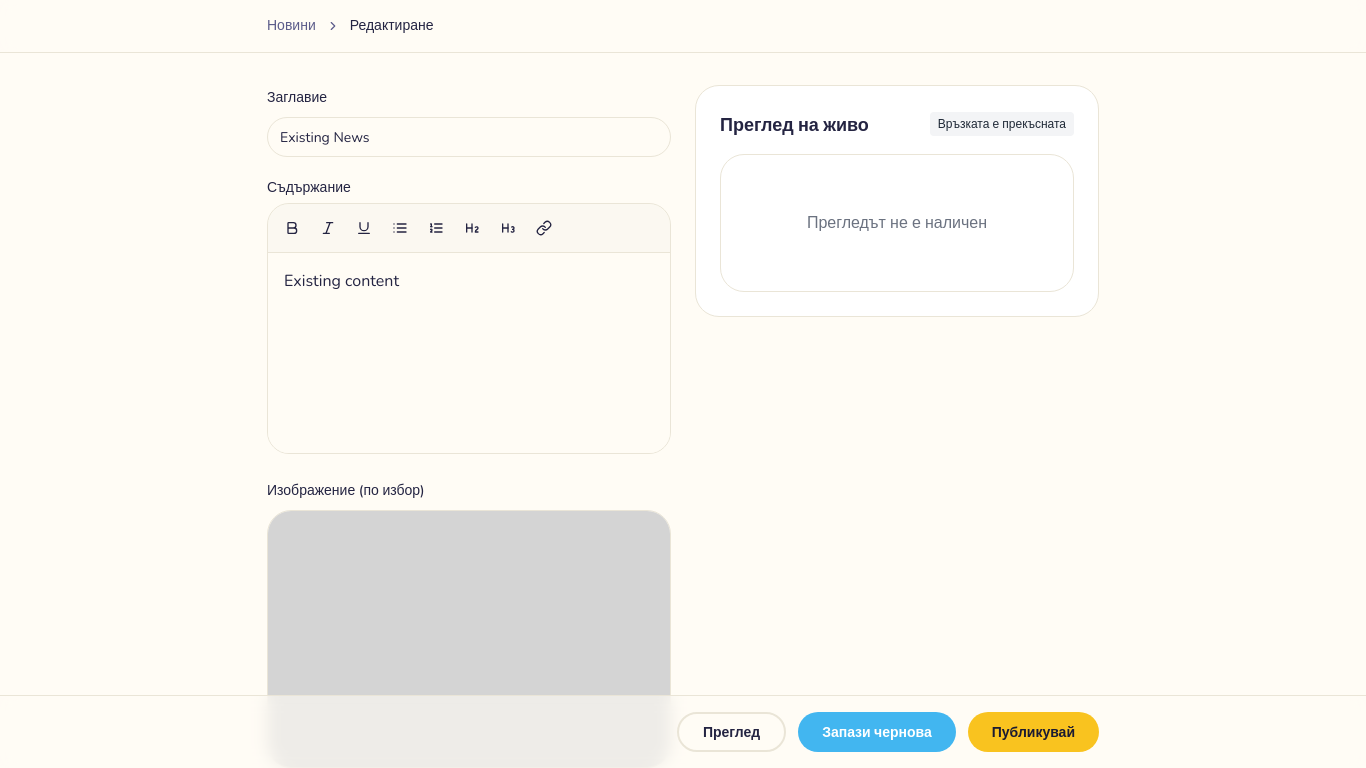
Test: NewsEdit › Auto-Save Functionality › beforeunload handler works correctly during saving
Replace the text in the field labelled "Заглавие" with "Test": point(469, 137) [267, 117, 671, 157]
Wait 10000 ms
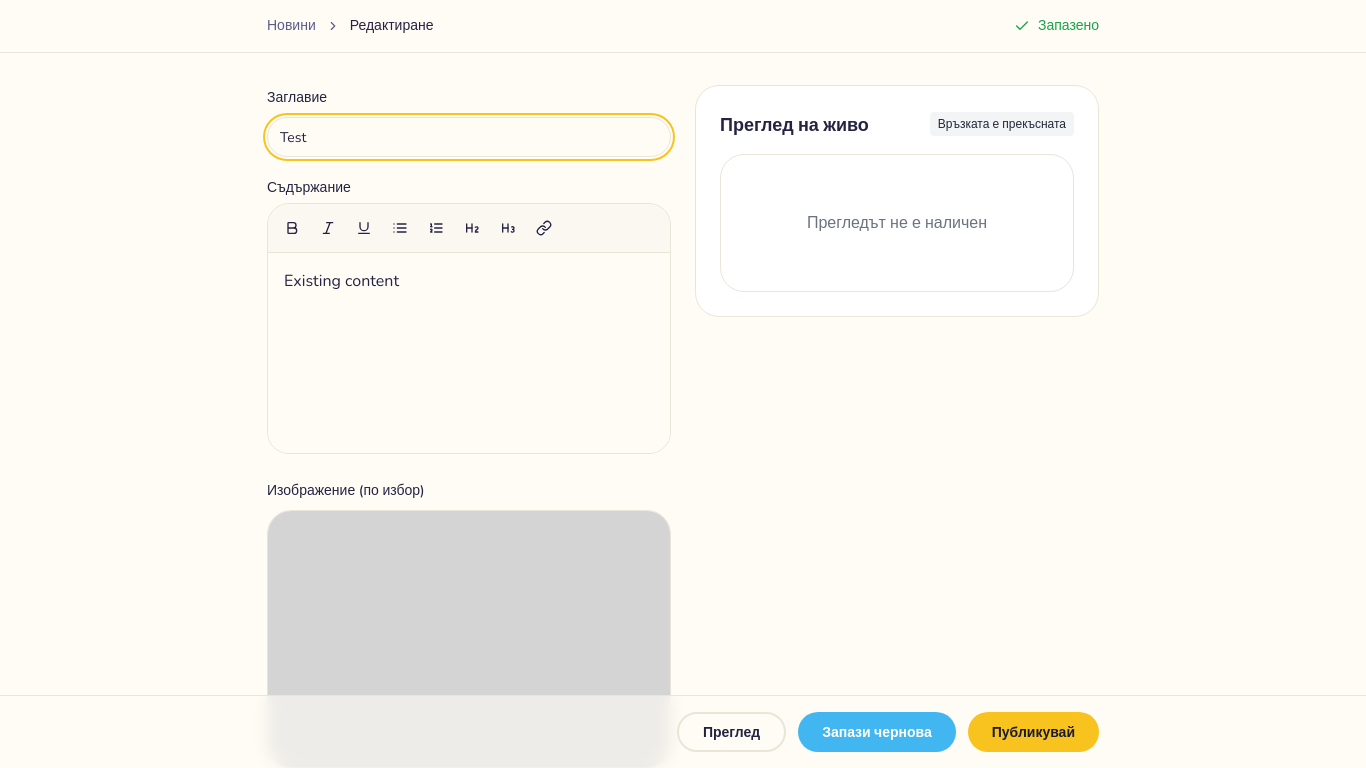
Result: the text "Запазва..." is shown at [1038, 16, 1099, 36]
